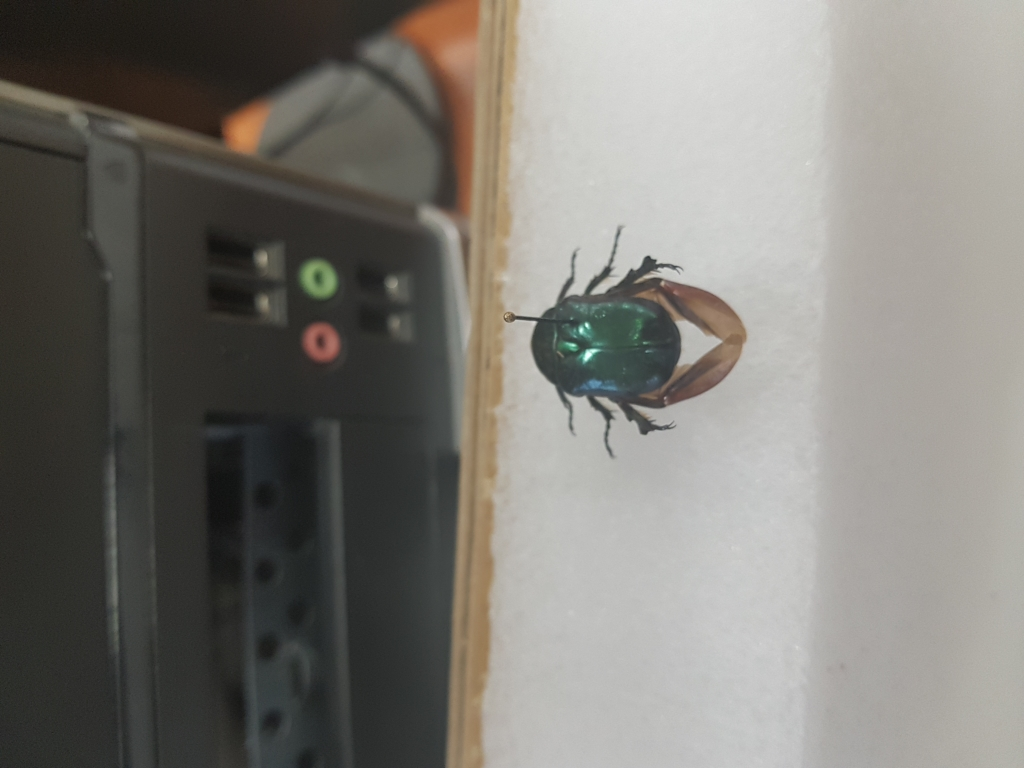Protaetia_angustata_angustata: (523, 219, 761, 467)
